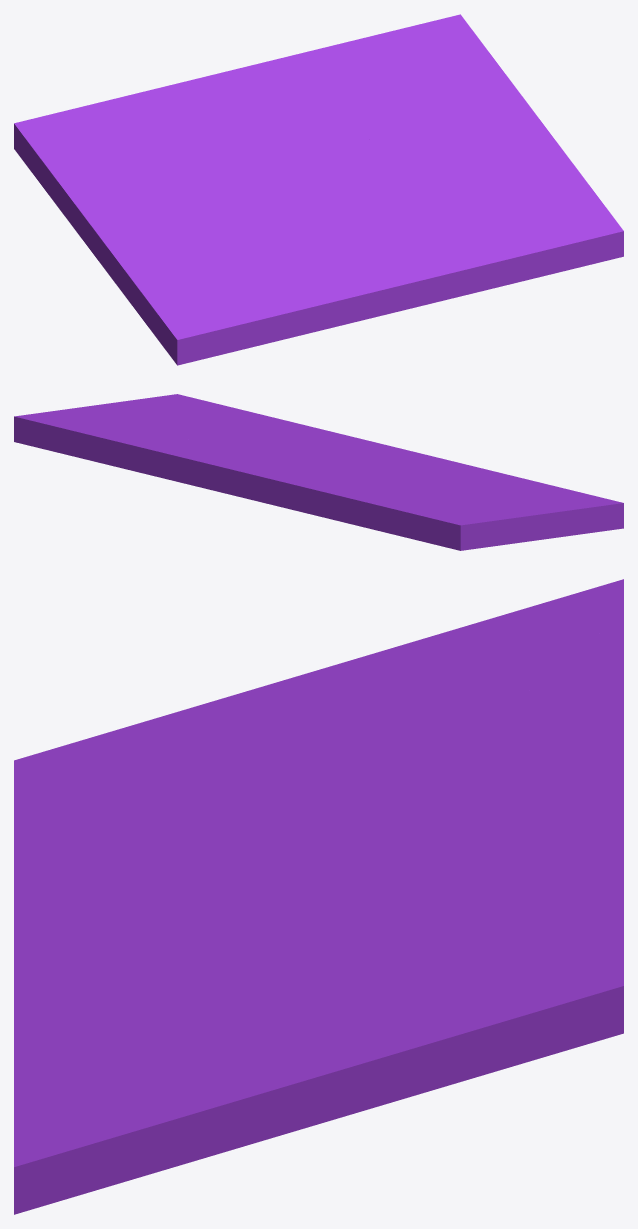
Rendered from Window_148_chunks.fbx.
3 views of the same model, one above another, from view 1: azimuth 30°, elevation 25°; view 2: azimuth 150°, elevation 25°; view 3: azimuth 270°, elevation 25° (orthographic). The views are drawn at different scales.
Visible parts, largest first — view 1: Window_148_1, Window_148_0, Window_148_2, Window_148_6, Window_148_3, Window_148_5, Window_148_4; view 2: Window_148_1, Window_148_6, Window_148_0, Window_148_5, Window_148_2, Window_148_3, Window_148_4; view 3: Window_148_0, Window_148_1, Window_148_2, Window_148_6, Window_148_3, Window_148_5, Window_148_4.
Part boxes in pixels (x1,y1,x2,y2): Window_148_1: (14,114,329,365); Window_148_0: (342,22,623,281); Window_148_2: (307,172,566,328); Window_148_6: (52,46,328,141); Window_148_3: (208,99,381,181); Window_148_5: (327,14,465,122); Window_148_4: (156,123,254,155); Window_148_1: (333,462,623,550); Window_148_6: (146,448,422,534); Window_148_0: (14,394,295,453); Window_148_5: (14,415,212,476); Window_148_2: (235,408,492,471); Window_148_3: (207,441,366,483); Window_148_4: (295,470,385,494); Window_148_0: (14,894,623,1214); Window_148_1: (14,579,623,878); Window_148_2: (14,863,318,1114); Window_148_6: (484,614,623,871); Window_148_3: (314,766,499,925); Window_148_5: (411,866,623,1000); Window_148_4: (435,715,498,806).
Bounding box in the file's own units: 1838 × 482 × 1165.
